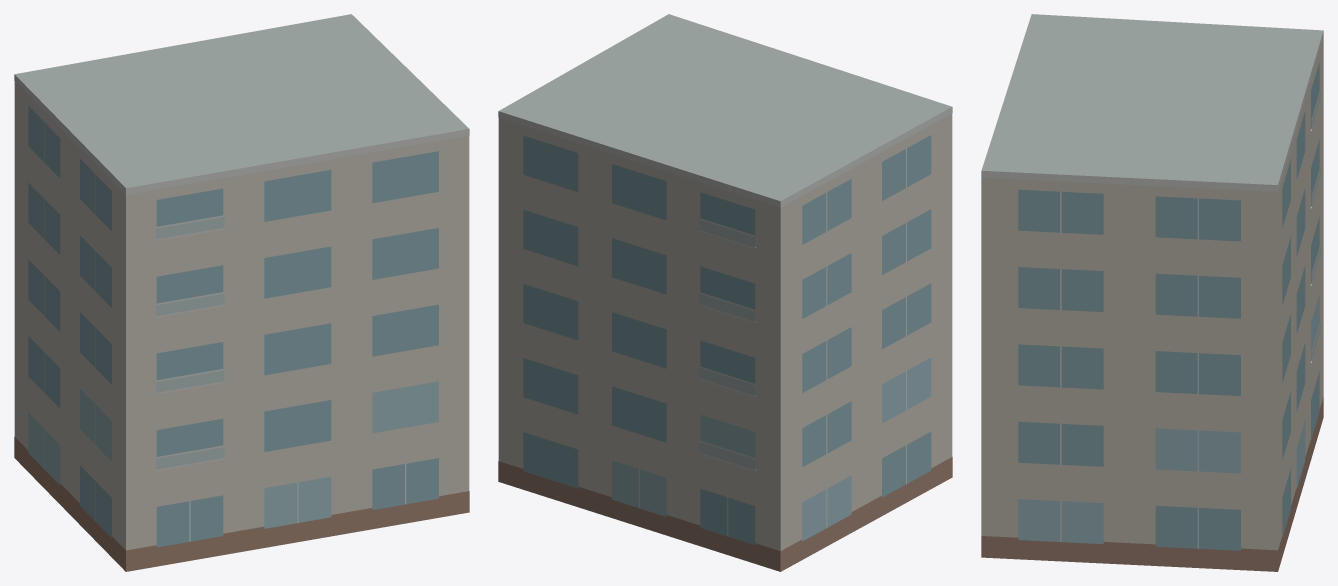
Rendered from survey-upis-33013896.glb.
3 renders of one model, left to right at view 1: azimuth 30°, elevation 25°; view 2: azimuth 150°, elevation 25°; view 3: azimuth 270°, elevation 25°, orthographic. The views are drawn at different scales.
Parts seen in each view (by area): view 1: survey-upis-33013896.tmp; view 2: survey-upis-33013896.tmp; view 3: survey-upis-33013896.tmp.
Part boxes in pixels (x1,y1,x2,y2): survey-upis-33013896.tmp: [14, 14, 469, 571]; survey-upis-33013896.tmp: [498, 14, 952, 571]; survey-upis-33013896.tmp: [981, 14, 1323, 571].
Bounding box in the file's own units: 13.1 × 13.8 × 11.08.
